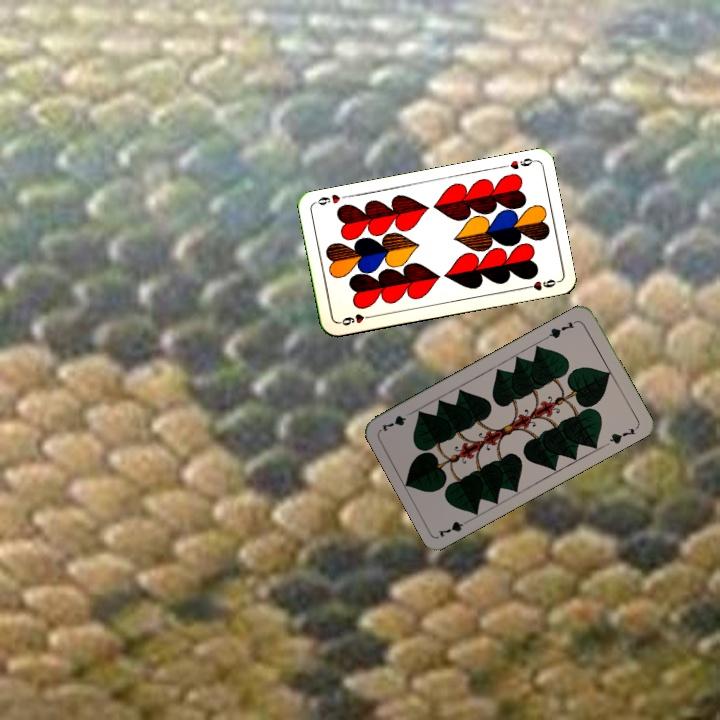G7: (434, 514, 474, 540), (543, 316, 580, 341)
H9: (334, 309, 375, 328), (497, 154, 537, 172)
